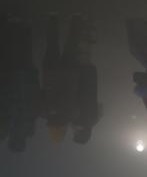person: (37, 9, 86, 143), (7, 12, 38, 154), (72, 14, 101, 143)
